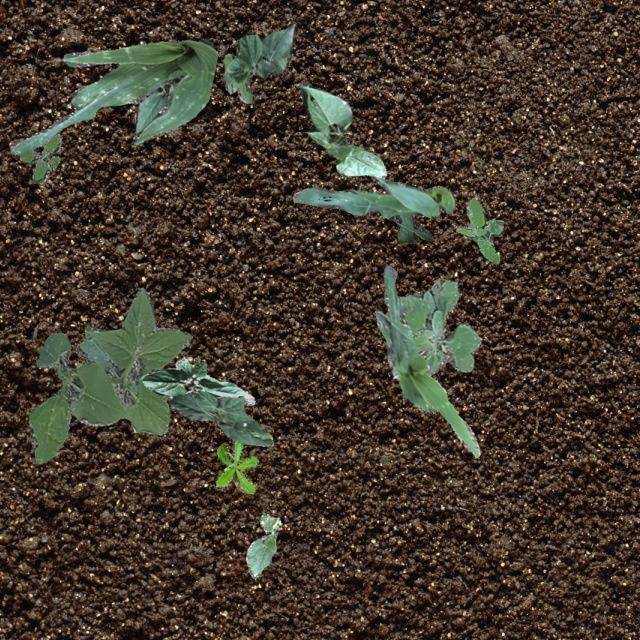crop: (8, 38, 216, 154), (374, 264, 478, 456), (292, 174, 454, 242), (300, 82, 386, 178), (168, 390, 272, 446), (222, 22, 294, 102), (140, 356, 254, 404), (244, 512, 280, 578), (134, 82, 172, 132)
weed: (28, 288, 192, 462), (390, 278, 480, 379), (456, 196, 502, 262), (215, 438, 258, 494), (18, 132, 61, 182)
